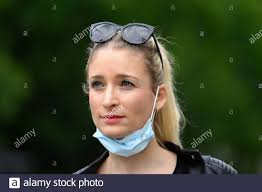mask_weared_incorrect: (86, 48, 168, 155)
